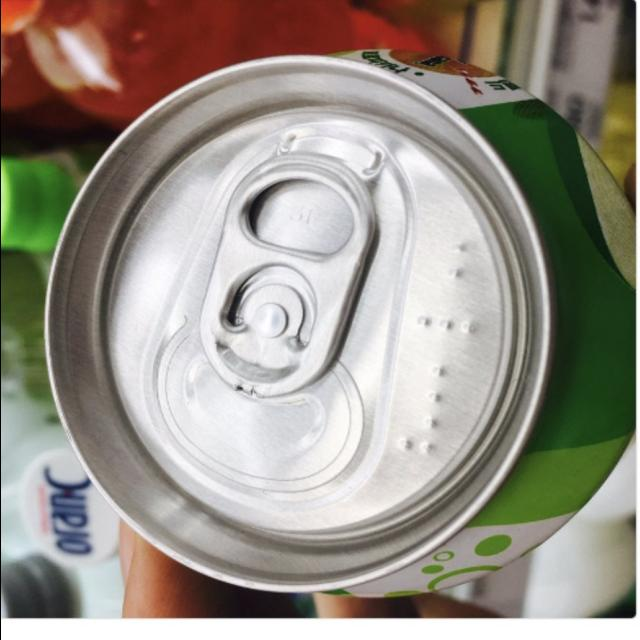can: (33, 32, 606, 620)
